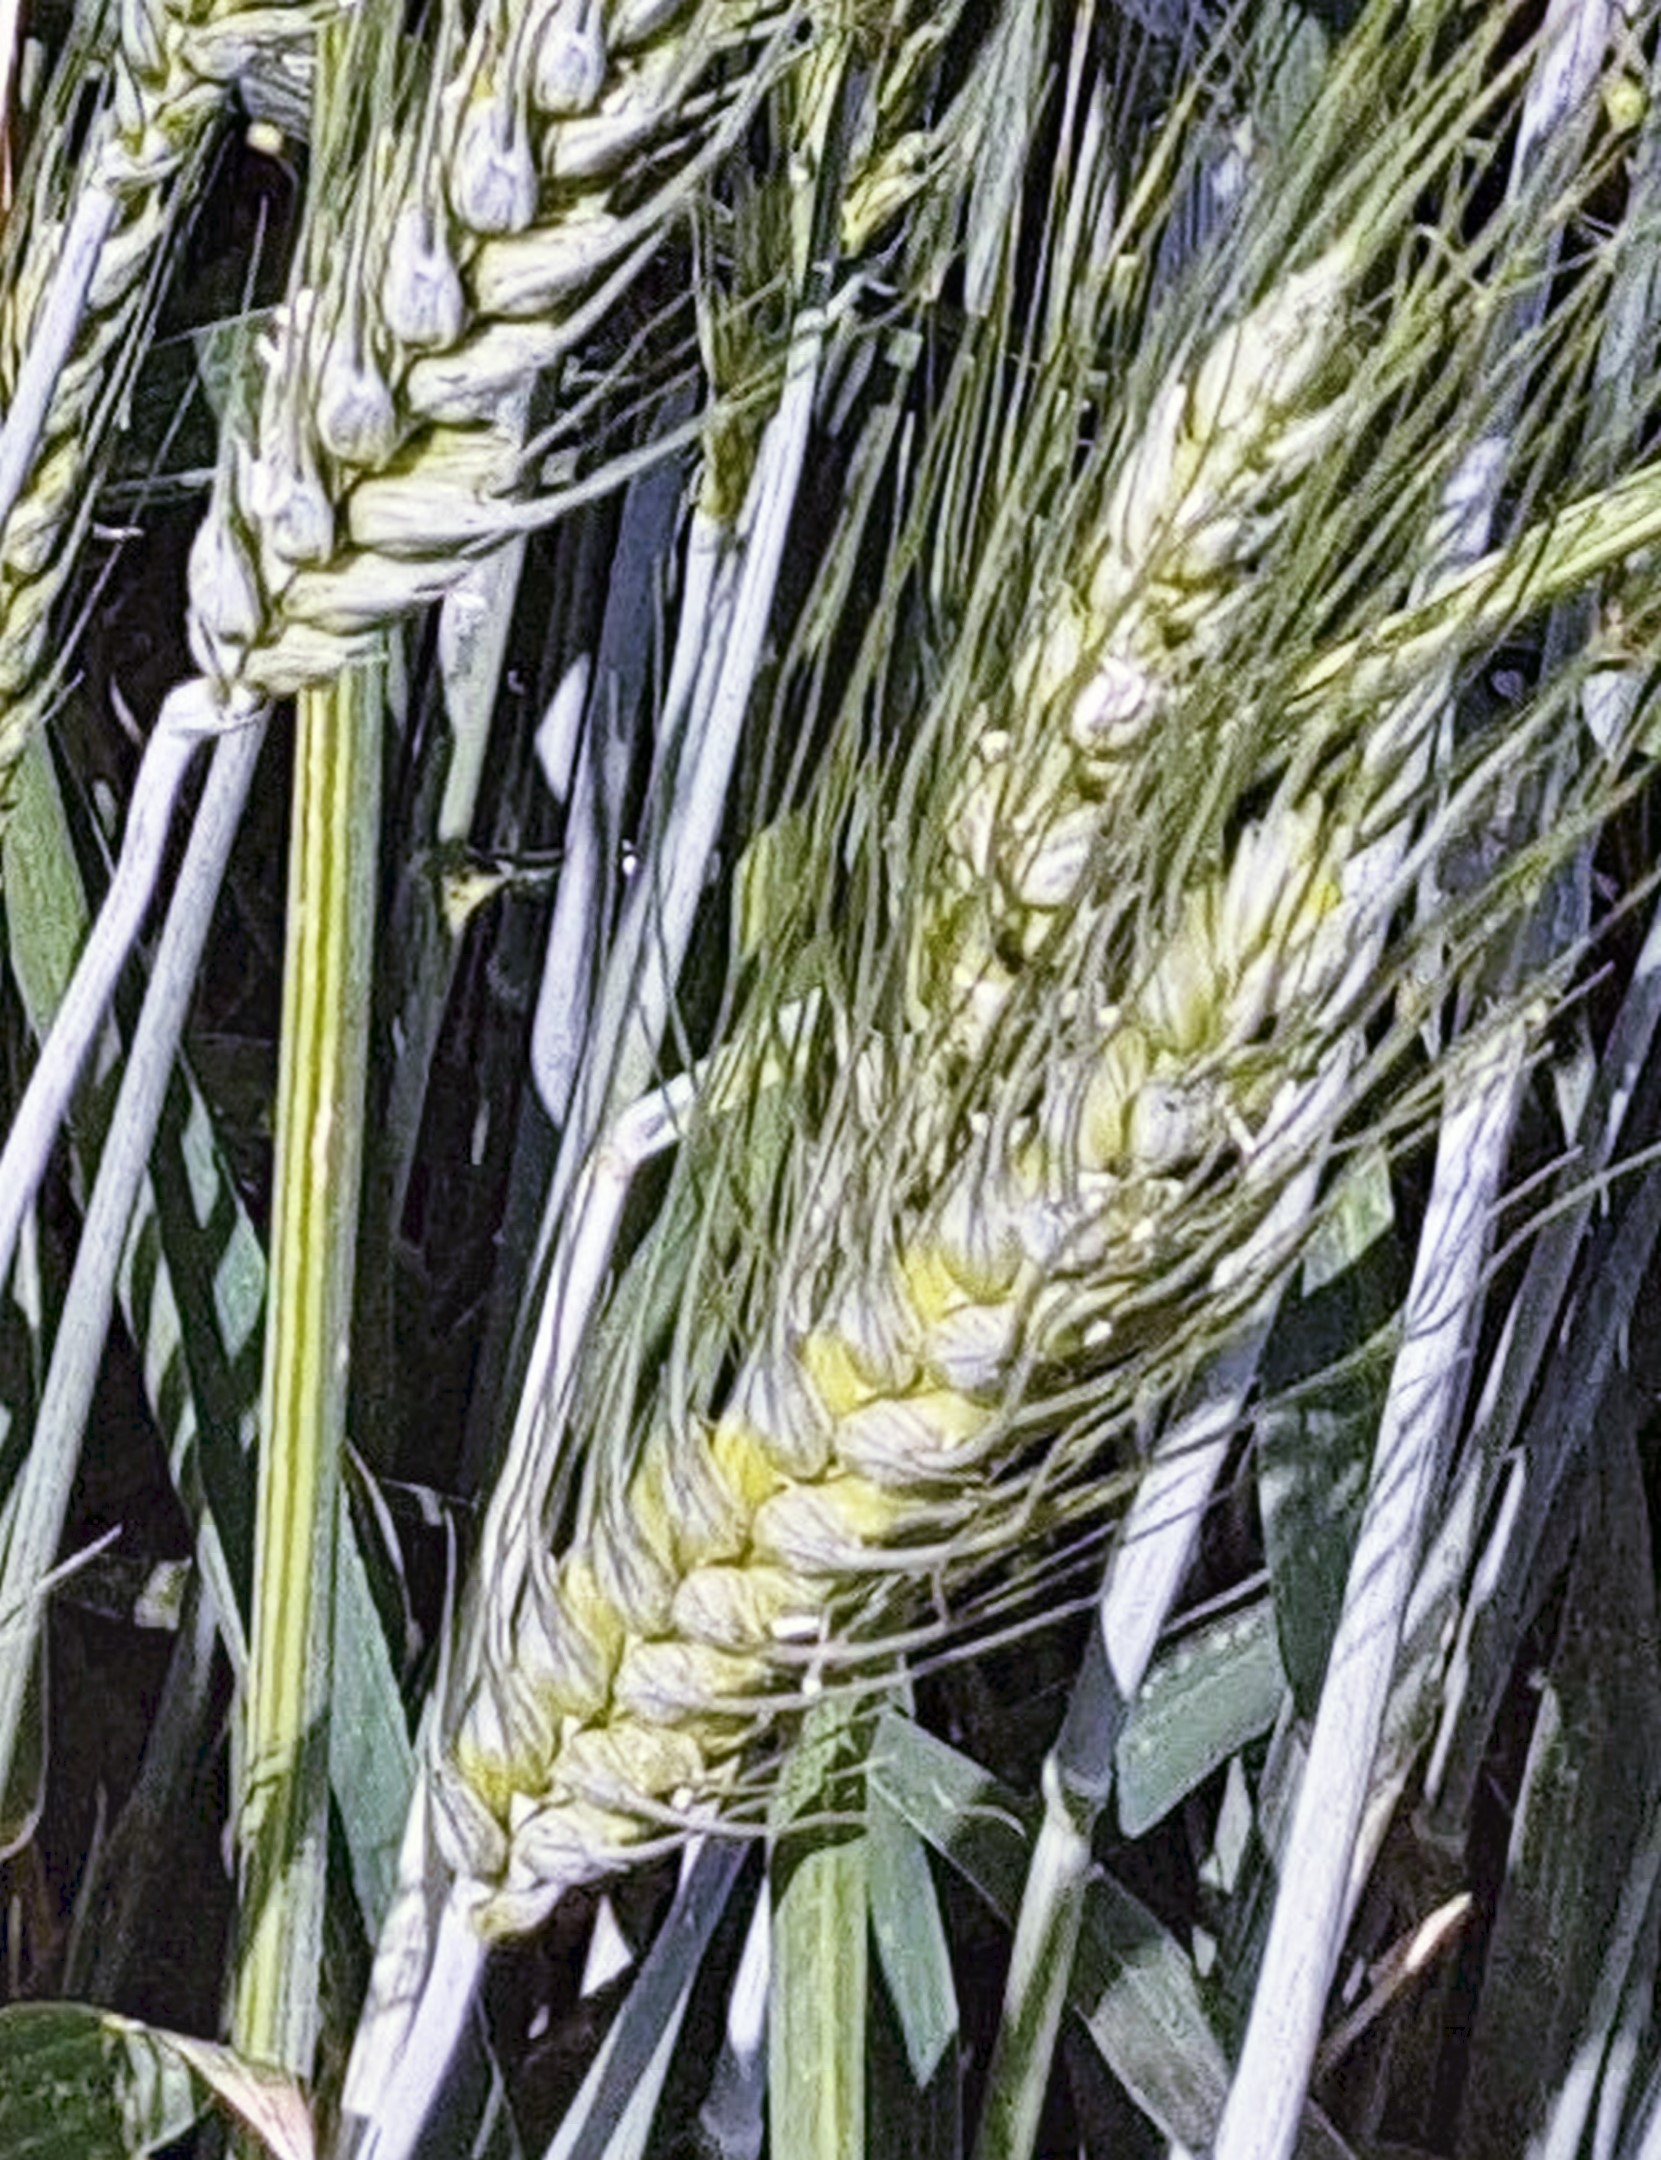Healthy Wheat: (429, 831, 1403, 1874)
